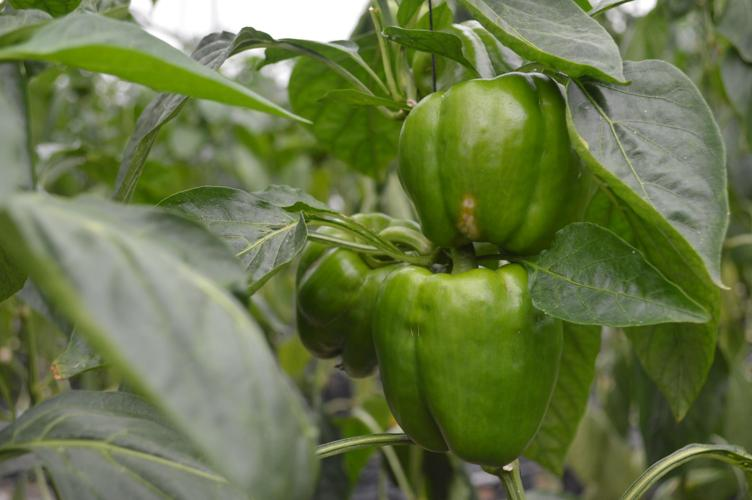BellPepper: (357, 275, 548, 466), (383, 69, 566, 252), (282, 200, 447, 365)
